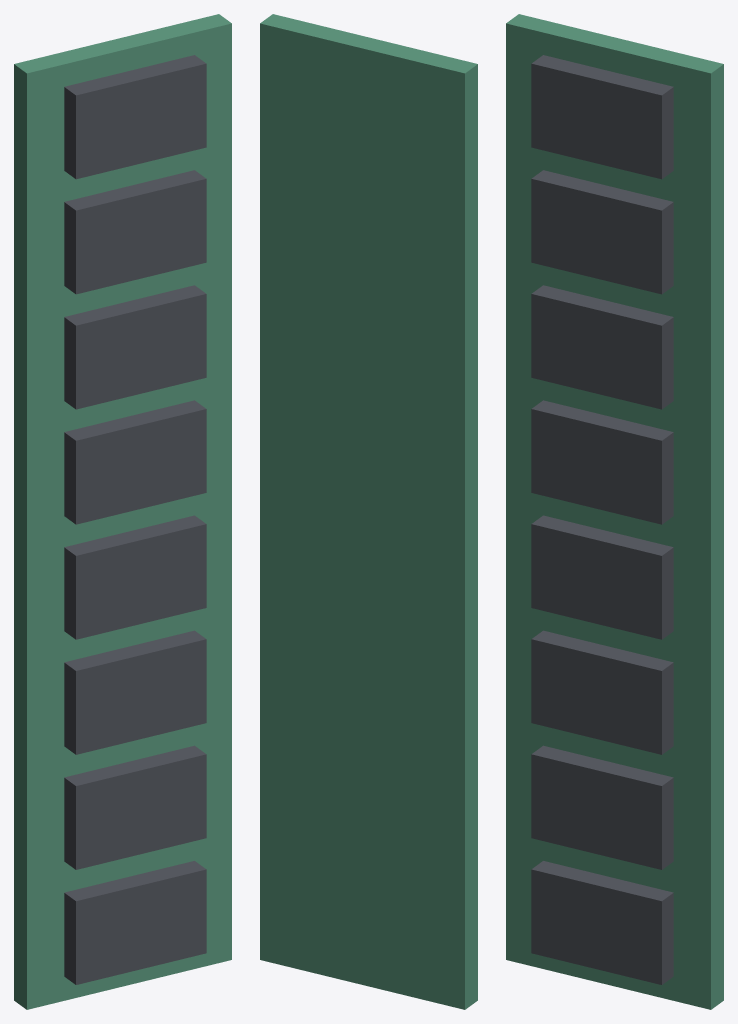
File: 003_L109_U3_DDR4_B.glb
The picture shows the model from 3 angles, left to right: view 1: azimuth 30°, elevation 25°; view 2: azimuth 150°, elevation 25°; view 3: azimuth 330°, elevation 25°; orthographic projection.
Visible parts, largest first — view 1: L109_U3_DDR4_B_EPOXY, L109_U3_DDR4_B_GREEN; view 2: L109_U3_DDR4_B_GREEN; view 3: L109_U3_DDR4_B_EPOXY, L109_U3_DDR4_B_GREEN.
Part boxes in pixels (<box>): L109_U3_DDR4_B_EPOXY: <box>64,55,206,984</box>; L109_U3_DDR4_B_GREEN: <box>14,14,231,1009</box>; L109_U3_DDR4_B_GREEN: <box>260,14,477,1009</box>; L109_U3_DDR4_B_EPOXY: <box>531,55,673,984</box>; L109_U3_DDR4_B_GREEN: <box>506,14,723,1009</box>.
Bounding box in the file's own units: 11 × 48 × 2.3.
